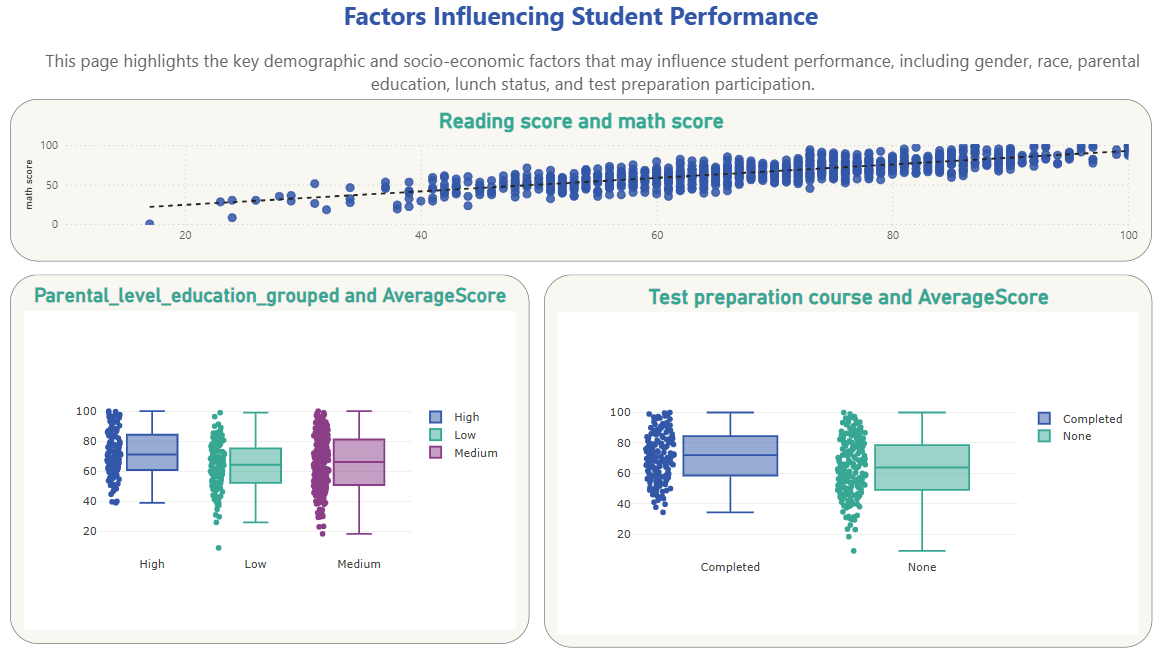

The page's visual inventory and layout, read from the dashboard file:
{"tool":"powerbi","page":{"name":"Factors Influencing Performance","canvas":[1280,720],"ordinal":2},"visuals":[{"type":"textbox","box":[22.7,0,1232.2,53.4],"z":0},{"type":"textbox","box":[22.7,53.4,1258.1,59.9],"z":1000},{"type":"scatterChart","title":"Reading score and math score","fields":{"Y":["StudentsPerformance1.math score"],"X":["StudentsPerformance1.reading score"]},"box":[23.1,113.6,1232.5,175.2],"z":2000},{"type":"boxPloty6C987A9E682A4A859272BFEC966AF372","title":"Parental_level_education_grouped and AverageScore","fields":{"category":["StudentsPerformance1.parental_level_education_grouped"],"measure":["StudentsPerformance1.AverageScore"]},"box":[23.1,302.4,560.4,398.6],"z":3000},{"type":"boxPloty6C987A9E682A4A859272BFEC966AF372","title":"Test preparation course and AverageScore","fields":{"category":["StudentsPerformance1.test preparation course"],"measure":["StudentsPerformance1.AverageScore"]},"box":[598.9,302.4,656.7,402.5],"z":4000}]}

Visuals, with their boxes in screenshot pixels (x1, y1, x2, y2), scaled from the page's 1280x720 canvas onto the 1168x654 screenshot:
textbox: pyautogui.locateOnScreen(21, 0, 1145, 49)
textbox: pyautogui.locateOnScreen(21, 49, 1167, 103)
"Reading score and math score" scatterChart: pyautogui.locateOnScreen(21, 103, 1146, 262)
"Parental_level_education_grouped and AverageScore" boxPloty6C987A9E682A4A859272BFEC966AF372: pyautogui.locateOnScreen(21, 275, 532, 637)
"Test preparation course and AverageScore" boxPloty6C987A9E682A4A859272BFEC966AF372: pyautogui.locateOnScreen(546, 275, 1146, 640)
